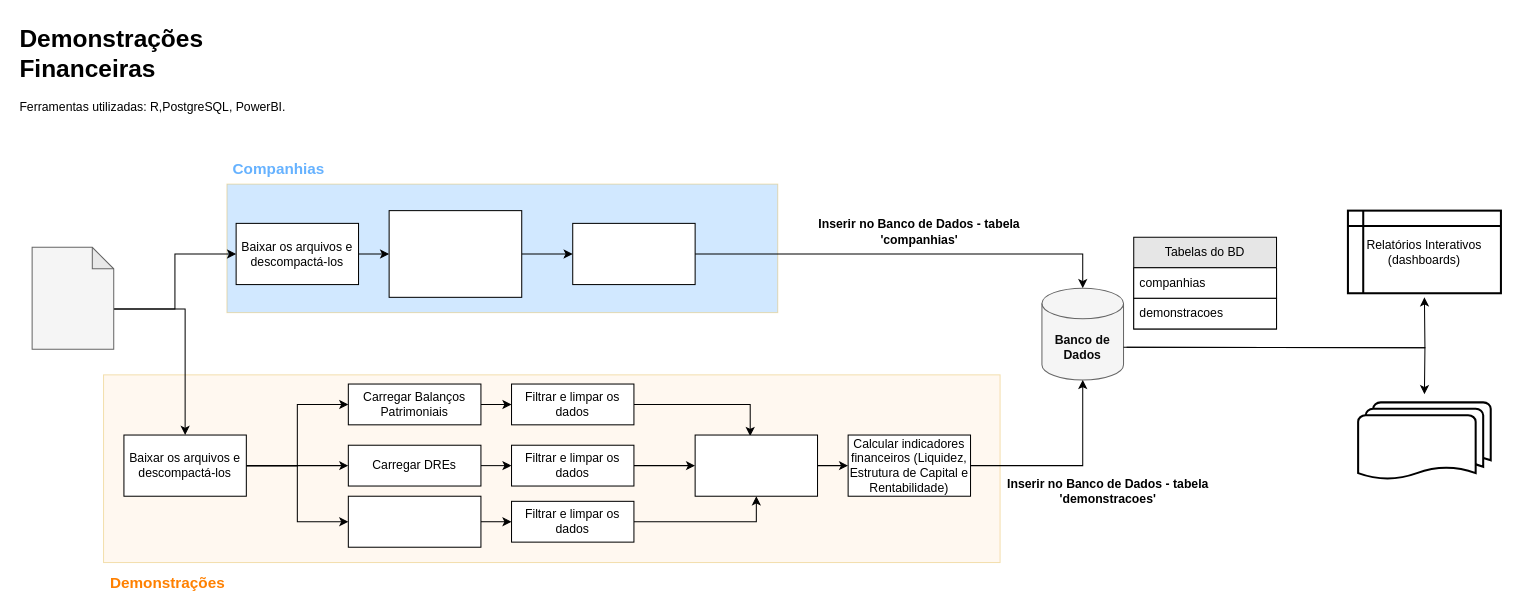
Image size: 1519x614. Some labels were removed from this diagram. The centre of each missing label's shape, as x and y in pixels:
"Análises Ad-Hoc" belongs at [1424,440].
"Arquivos .RAR no site da CVM" belongs at [72,297].
"Carregar Demonstrações de Fluxo de Caixa" belongs at [414,521].
"Carregar todos os arquivos referentes às companhias abertas (dfp_cia_aberta)" belongs at [455,253].
"Remover duplicatas, criando uma lista com todas as empresas já listadas" belongs at [633,253].
"Unir todas as demonstrações em uma única tabela" belongs at [756,465].
